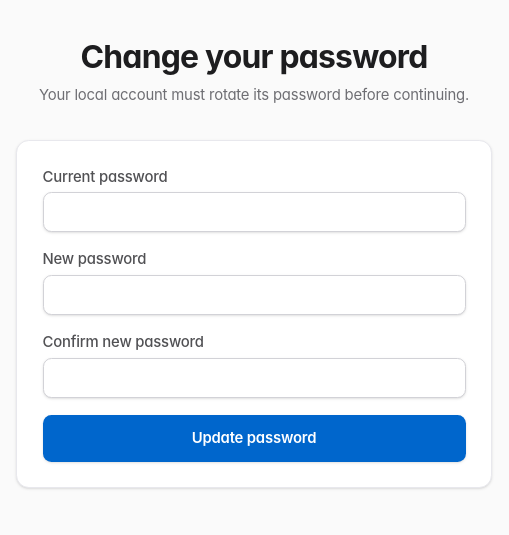
Test: change-password page › blocks submission when new password equals current password
Type "same-password-123!" into the password field labelled "Current password".
click(254, 212); type("same-password-123!")  # box [42, 192, 466, 232]
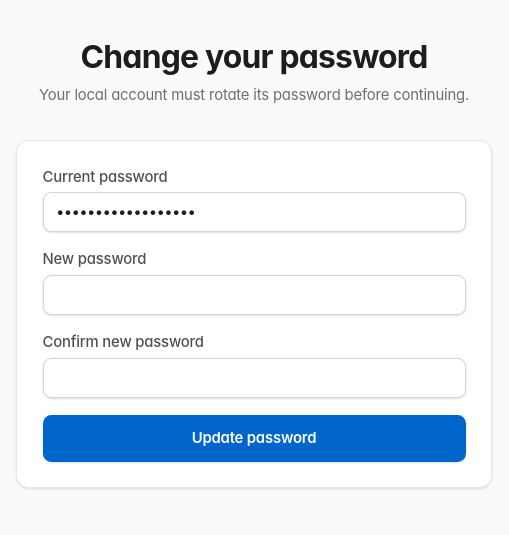
Type "same-password-123!" into the password field labelled "New password".
click(254, 295); type("same-password-123!")  # box [42, 275, 466, 315]
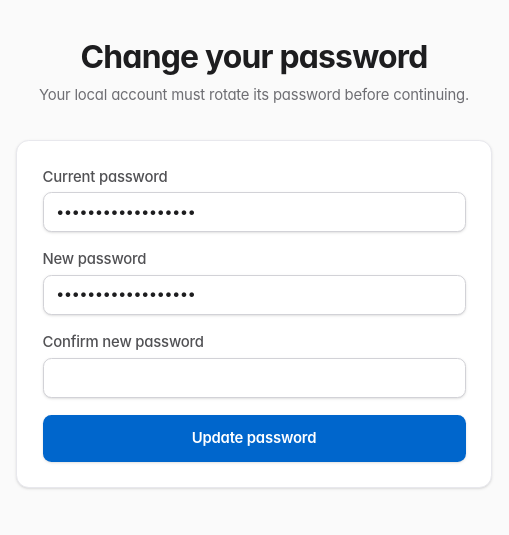
Type "same-password-123!" into the password field labelled "Confirm new password".
click(254, 378); type("same-password-123!")  # box [42, 358, 466, 398]
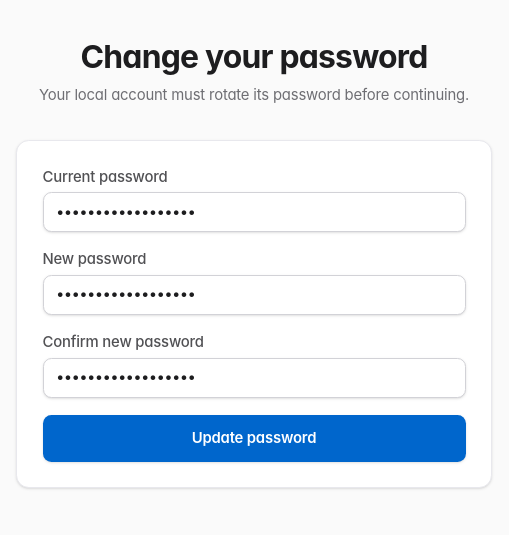
Click the button "Update password".
click(254, 438)  # box [42, 415, 466, 462]
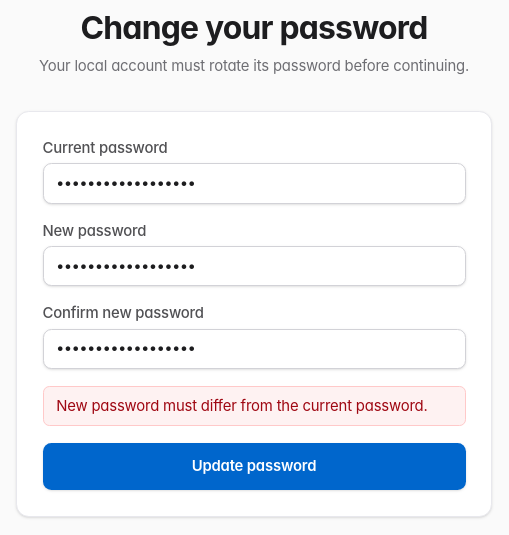
Expected: the message shows "must differ", [56, 397, 428, 415]
